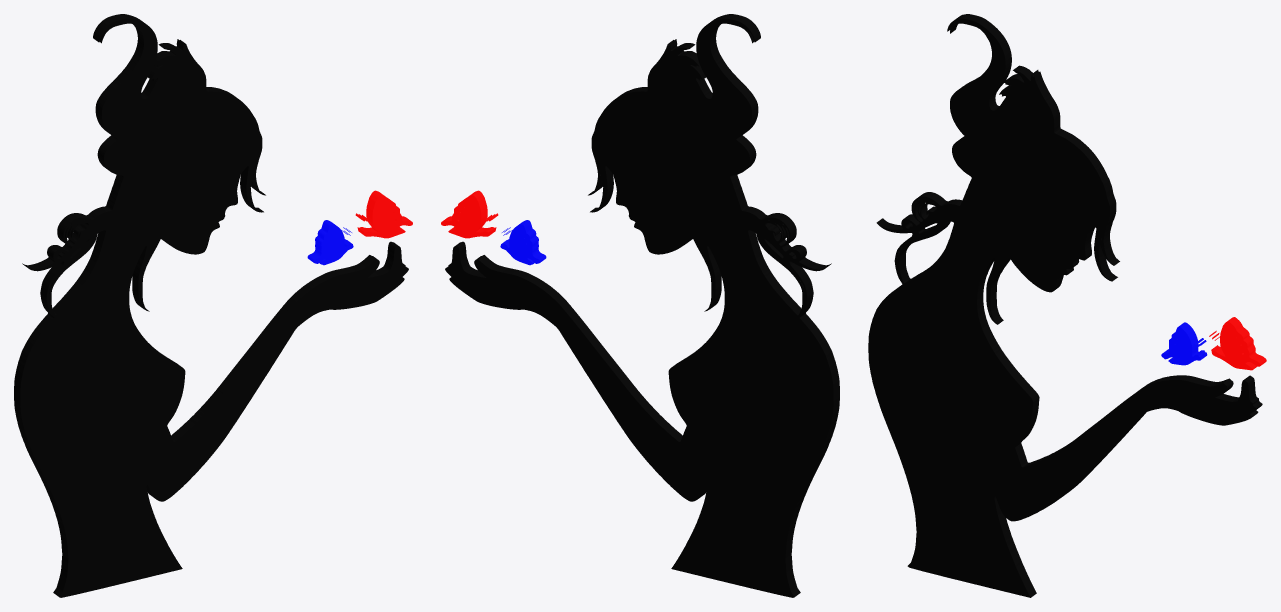
3 views of the same model, side by side, from view 1: azimuth 30°, elevation 25°; view 2: azimuth 150°, elevation 25°; view 3: azimuth 330°, elevation 25° (orthographic).
Size of the model in its own units: 0.7281 by 0.9998 by 0.02.
